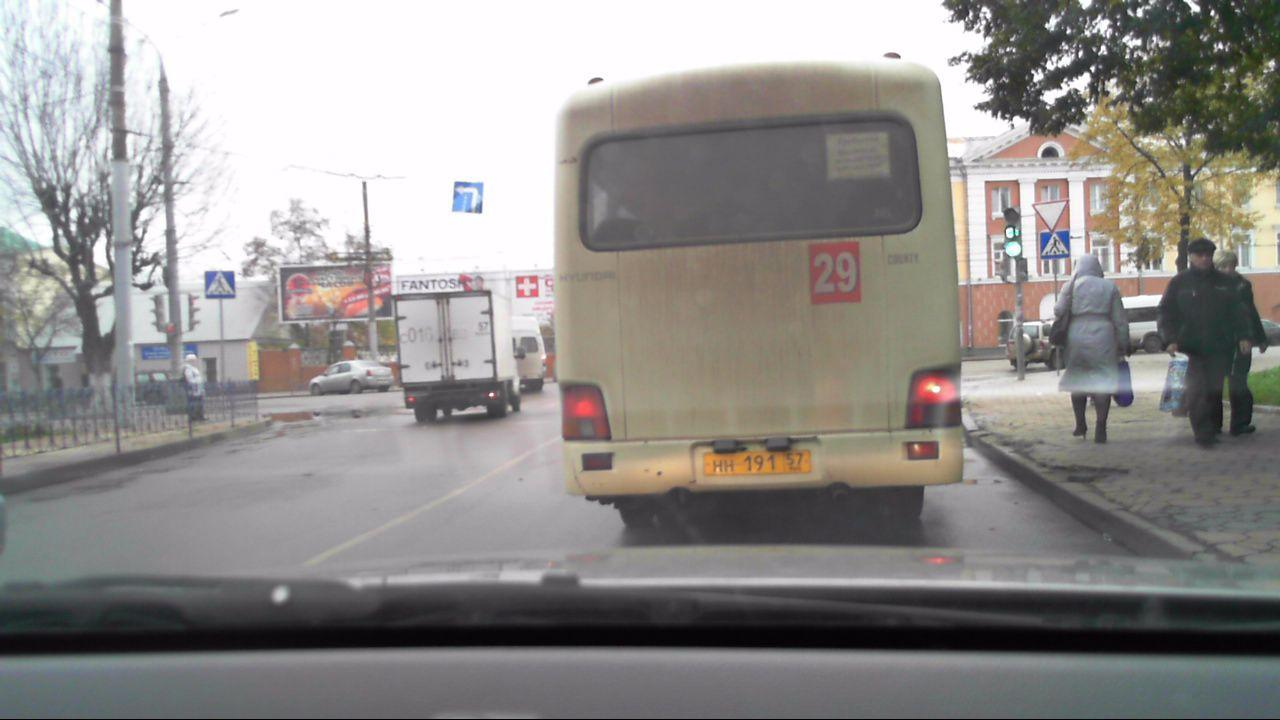2_4: (1030, 203, 1066, 232)
5_15_2: (448, 177, 484, 215)
5_19_1: (1036, 230, 1072, 260)
5_19_2: (205, 269, 236, 299)
